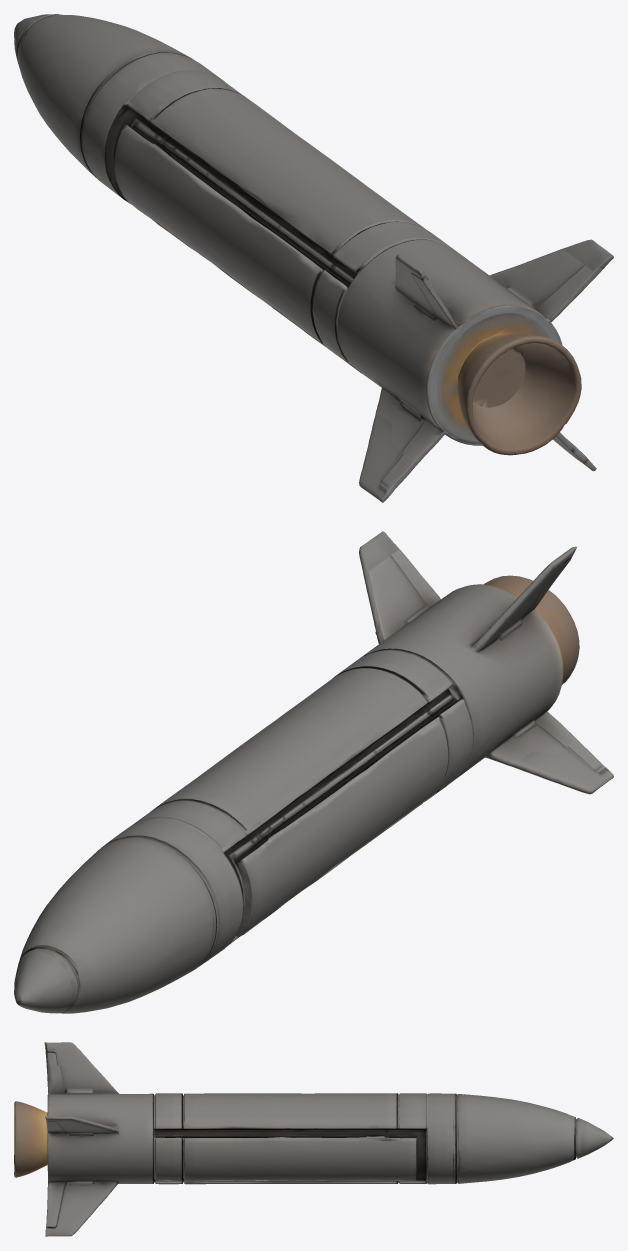
Rendered from 39a05616-2dc7-4da8-8fdb-f553ae979f39-pbr_model.glb.
3 views of the same model, one above another, from view 1: azimuth 30°, elevation 25°; view 2: azimuth 150°, elevation 25°; view 3: azimuth 270°, elevation 25° (orthographic). The views are drawn at different scales.
Parts seen in each view (by area): view 1: tripo_node_39a05616-2dc7-4da8-8fdb-f553ae979f39; view 2: tripo_node_39a05616-2dc7-4da8-8fdb-f553ae979f39; view 3: tripo_node_39a05616-2dc7-4da8-8fdb-f553ae979f39.
Part boxes in pixels (<box>): tripo_node_39a05616-2dc7-4da8-8fdb-f553ae979f39: <box>14,14,613,502</box>; tripo_node_39a05616-2dc7-4da8-8fdb-f553ae979f39: <box>14,531,613,1013</box>; tripo_node_39a05616-2dc7-4da8-8fdb-f553ae979f39: <box>14,1042,613,1236</box>.
Size of the model in its own units: 0.2662 by 0.2648 by 1.
Materials: 1 (1 with a texture image).
